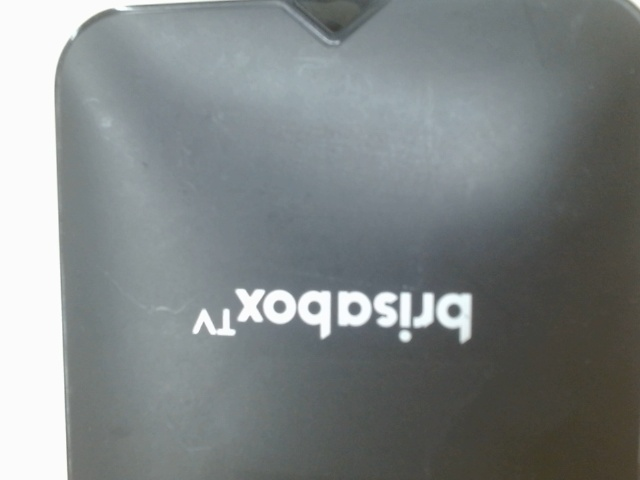AH_brisabox: (178, 278, 485, 354)
